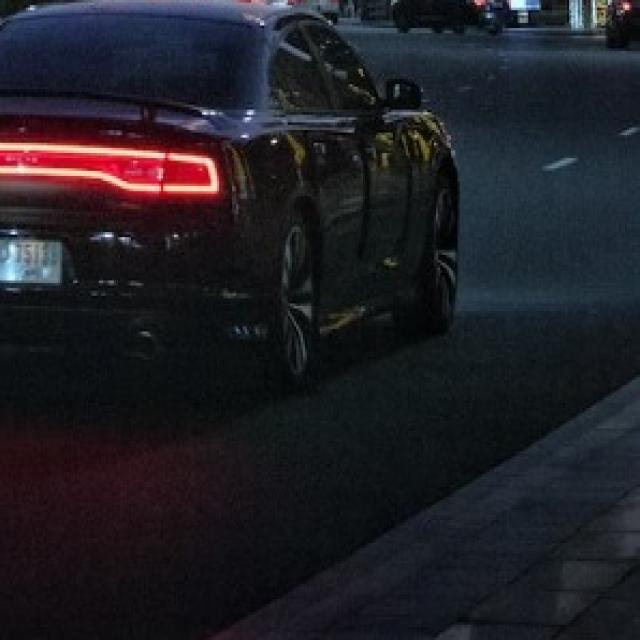bus: (232, 0, 305, 10)
car: (0, 0, 464, 393), (389, 0, 511, 38), (286, 0, 339, 23)
